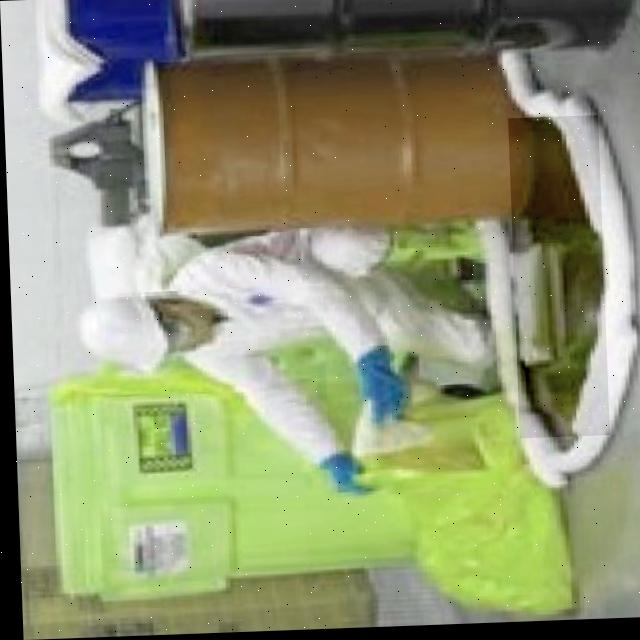spillage: (511, 120, 601, 440)
